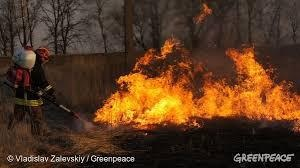fire: (96, 38, 297, 135), (192, 2, 213, 23)
